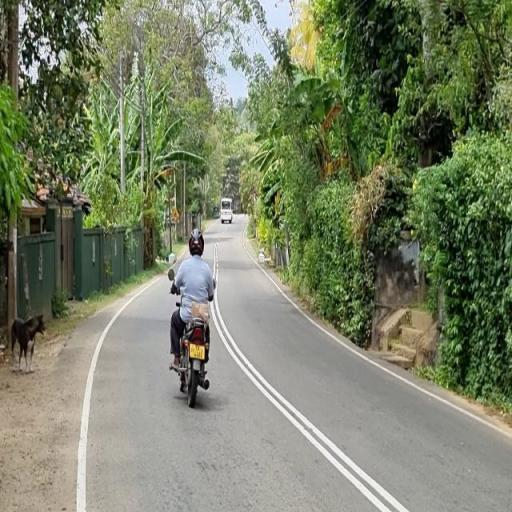double_white_line: (218, 302, 408, 510)
